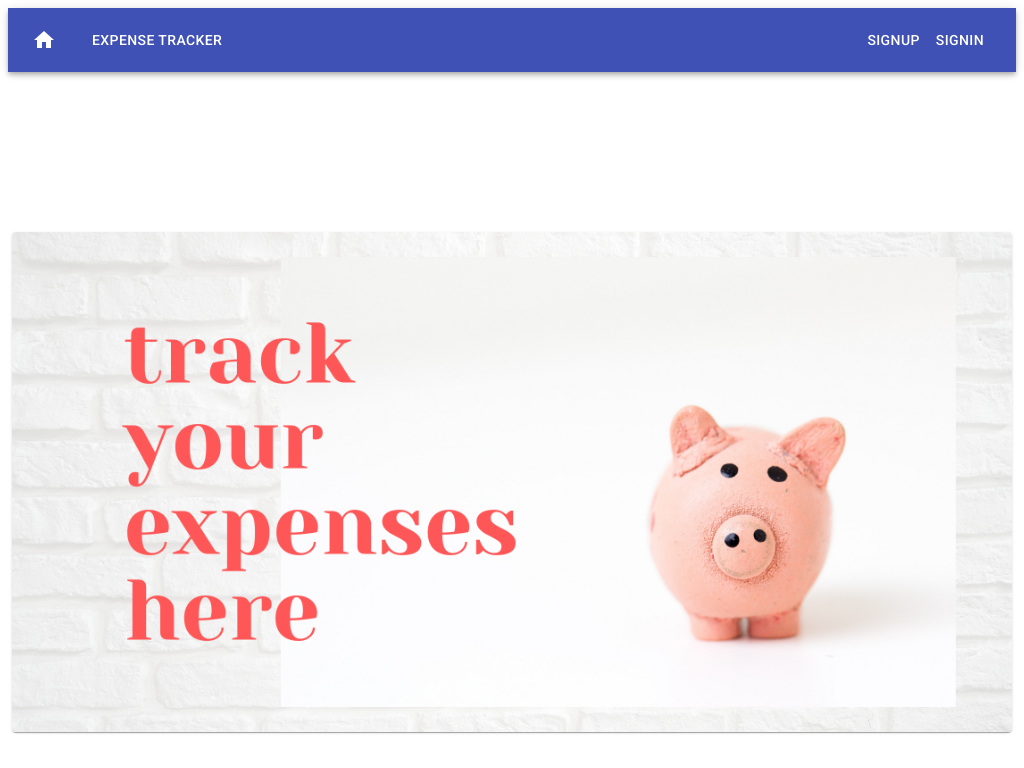
Test: Test login › Should render SignIn component
The width and height of the screenshot is (1024, 768).
What coordinates should you click on to do the following:
click the button with test id "signIn"
I would click on:
 (960, 41)
Its box is [928,22,992,59].
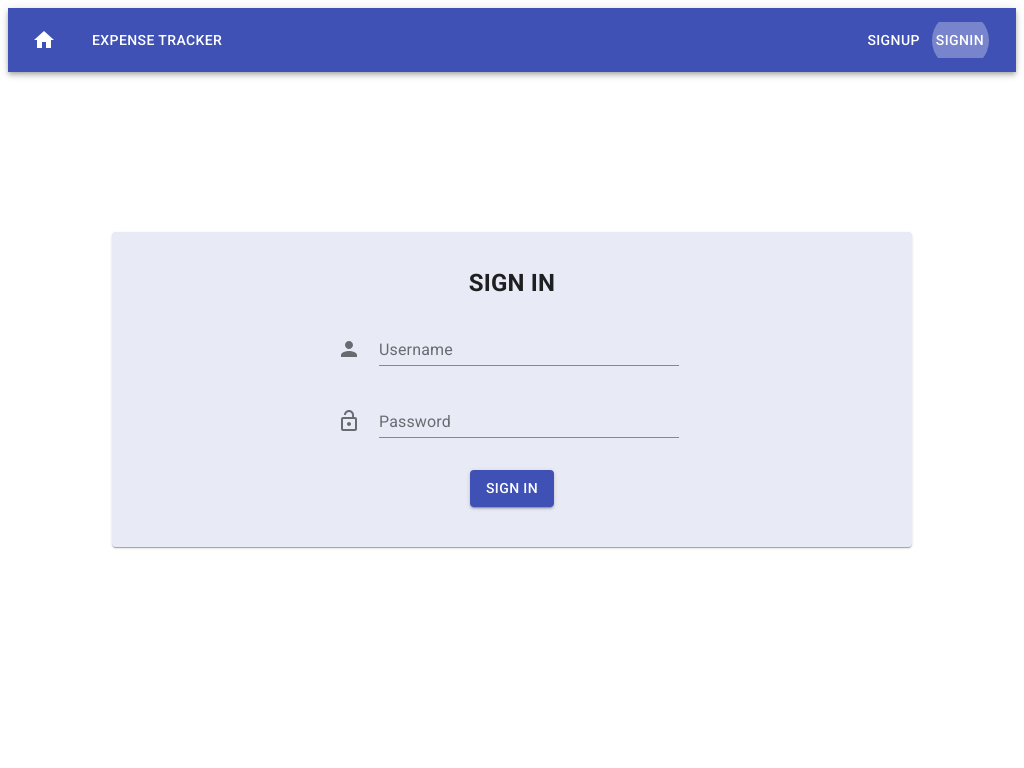
Now the element with test id "signInForm" is shown, box [112,232,912,547]
